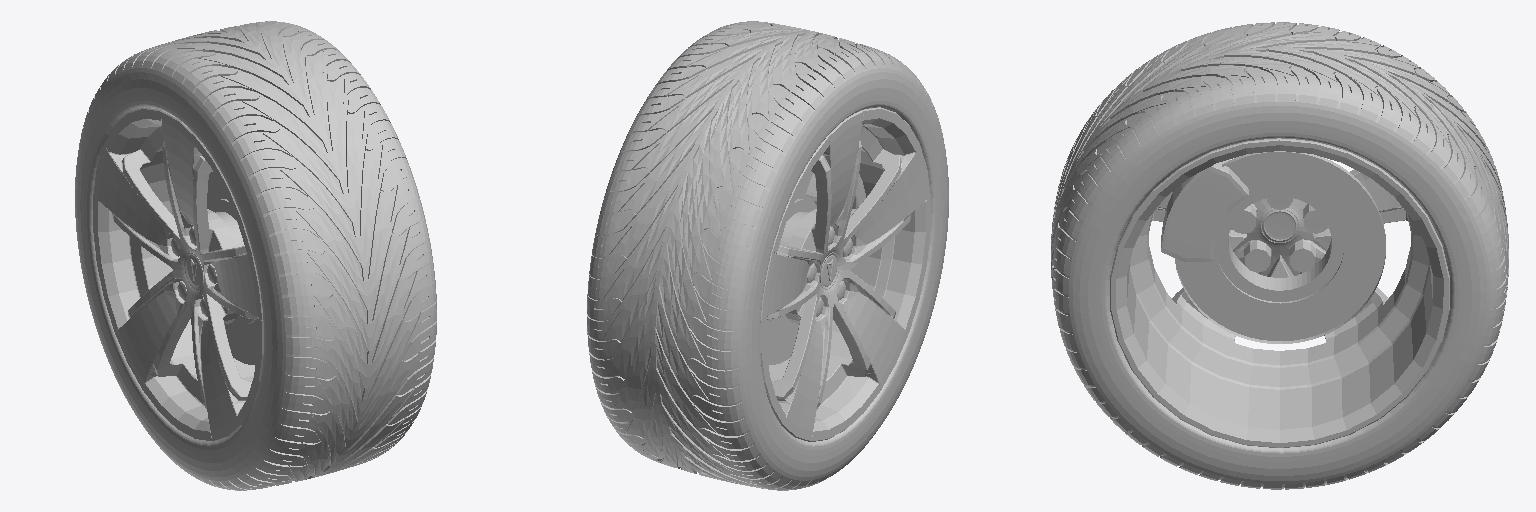
Rendered from modelo_llantatd.obj.
3 views of the same model, side by side, from view 1: azimuth 30°, elevation 25°; view 2: azimuth 150°, elevation 25°; view 3: azimuth 270°, elevation 25° (orthographic).
Visible parts, largest first — view 1: llantatd3, llantatd1, llantatd2, pasted__Group001_group_pasted__K4_pasted__tire_b_R_pasted__HDM_0; view 2: llantatd3, llantatd1, llantatd2, pasted__Group001_group_pasted__K4_pasted__tire_b_R_pasted__HDM_0; view 3: llantatd3, llantatd1, llantatd2, pasted__Group001_group_pasted__K4_pasted__tire_b_R_pasted__HDM_0.
Part boxes in pixels (left/top/right/bottom): llantatd3: left=75, top=21, right=436, bottom=490; llantatd1: left=93, top=107, right=263, bottom=441; llantatd2: left=207, top=172, right=257, bottom=364; pasted__Group001_group_pasted__K4_pasted__tire_b_R_pasted__HDM_0: left=171, top=220, right=237, bottom=316; llantatd3: left=587, top=21, right=948, bottom=490; llantatd1: left=760, top=107, right=930, bottom=441; llantatd2: left=766, top=171, right=816, bottom=364; pasted__Group001_group_pasted__K4_pasted__tire_b_R_pasted__HDM_0: left=806, top=173, right=865, bottom=316; llantatd3: left=1051, top=22, right=1508, bottom=489; llantatd1: left=1110, top=138, right=1449, bottom=447; llantatd2: left=1175, top=151, right=1385, bottom=343; pasted__Group001_group_pasted__K4_pasted__tire_b_R_pasted__HDM_0: left=1161, top=159, right=1323, bottom=268.
Size of the model in its own units: 1.12 by 2.79 by 2.79.